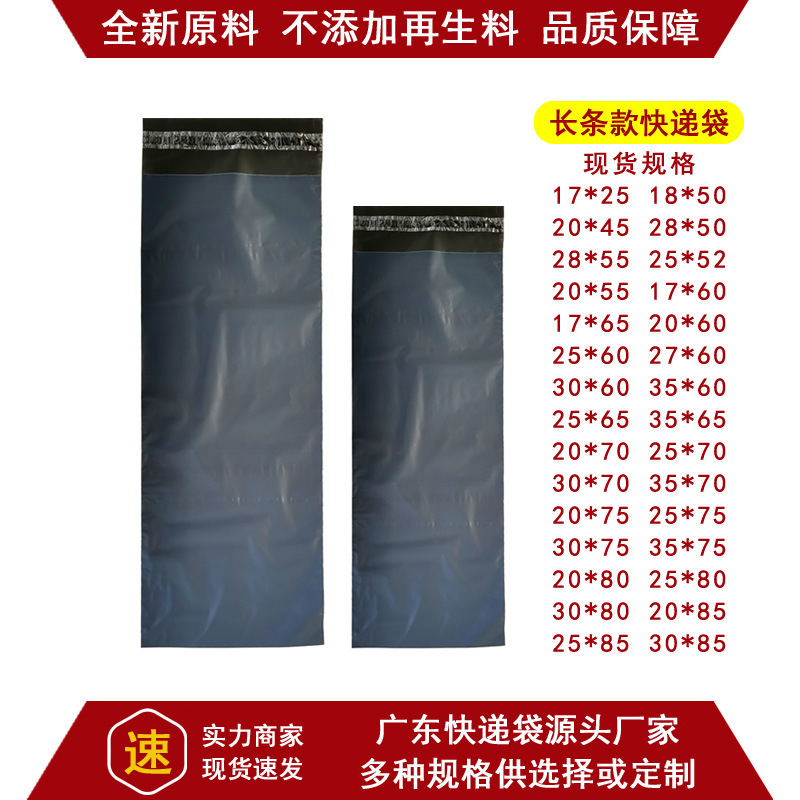塑料袋: (141, 118, 323, 648), (352, 206, 503, 648)
